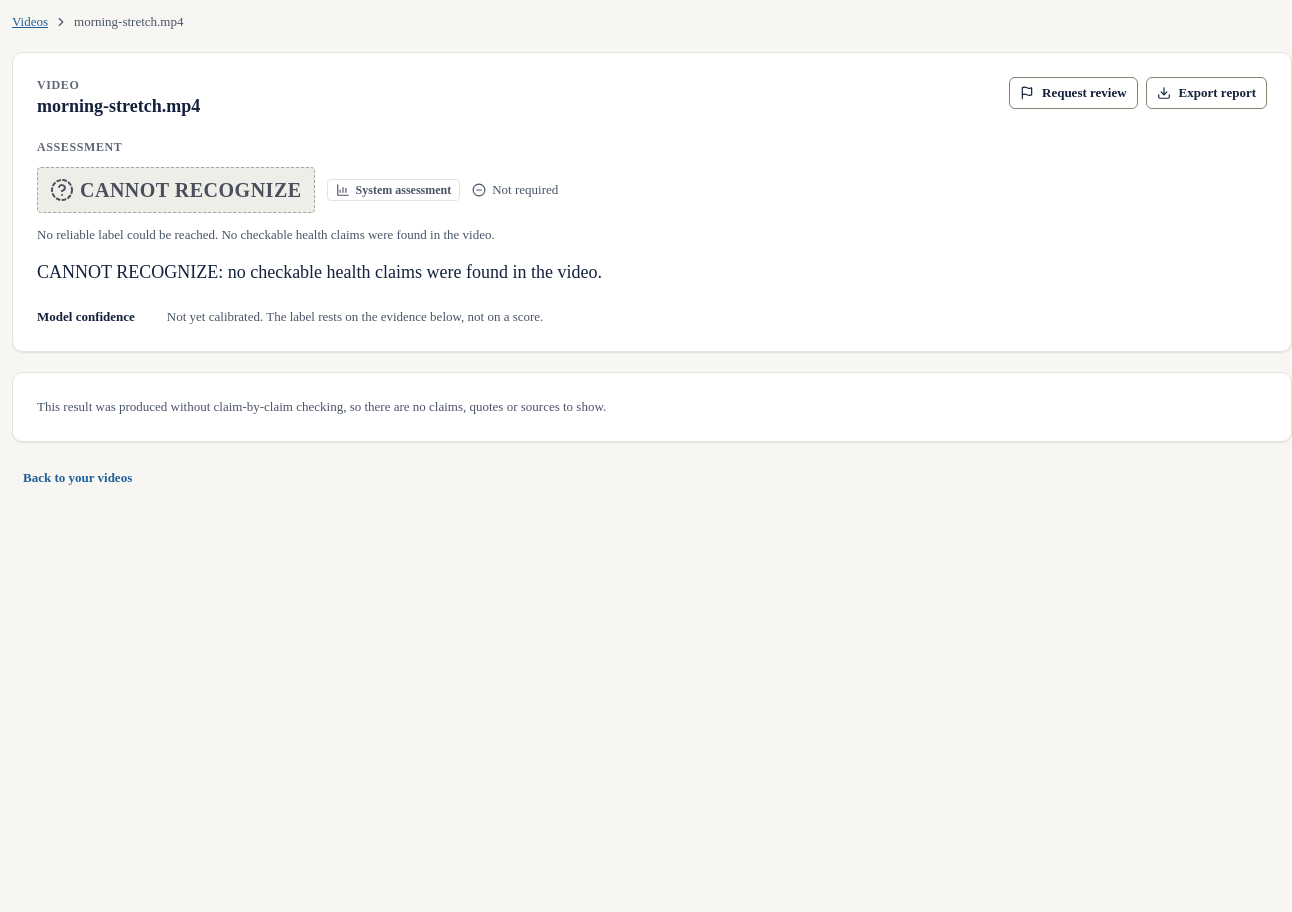
Scenario: Request review on the result page (T32) › keeps the note when sending fails
Click the button "Request review" at (1073, 93), box [1009,77,1138,109]
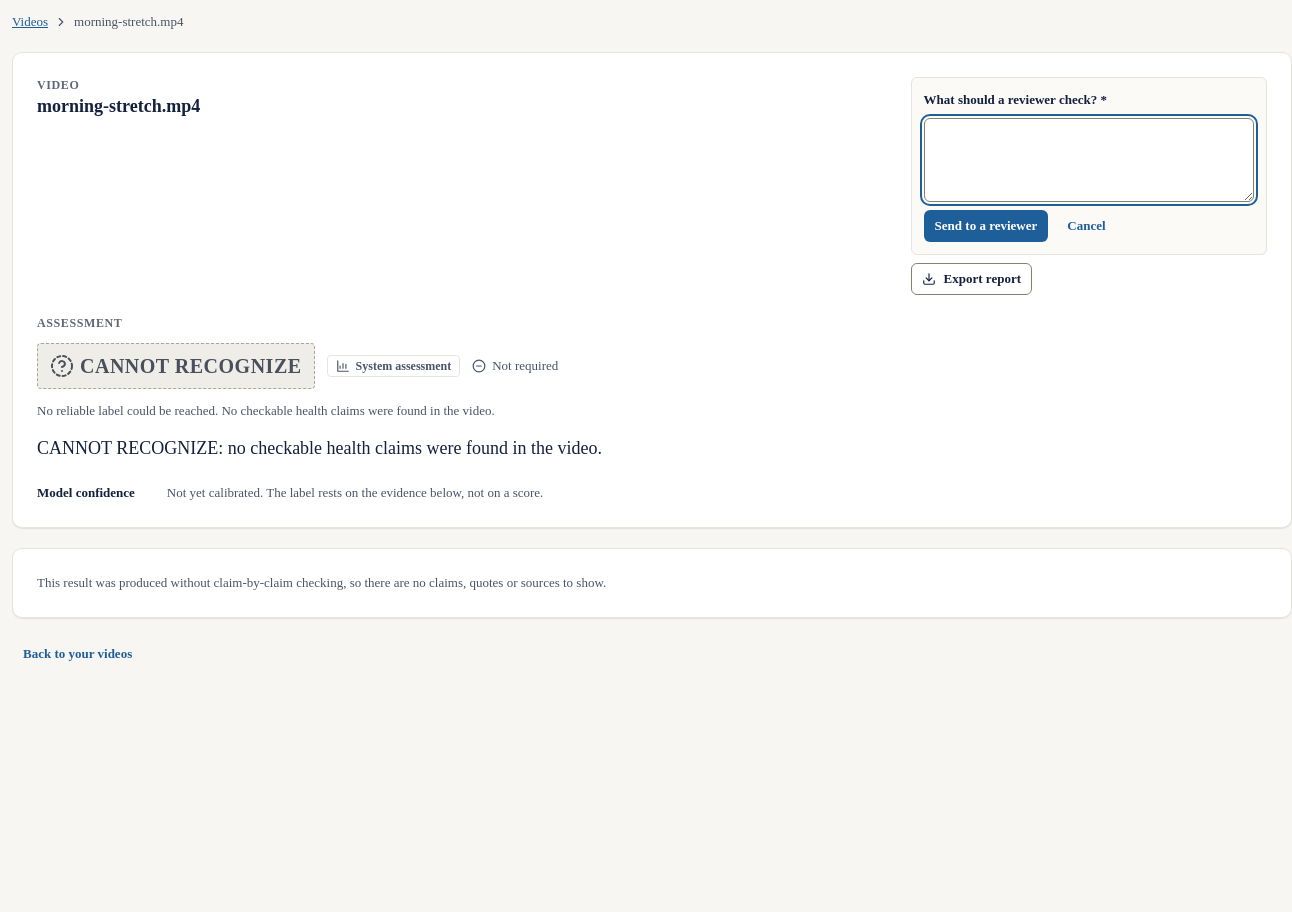
Type "Check it" into the text box labelled "What should a reviewer check? *" at (1089, 160), box [924,118,1254,202]
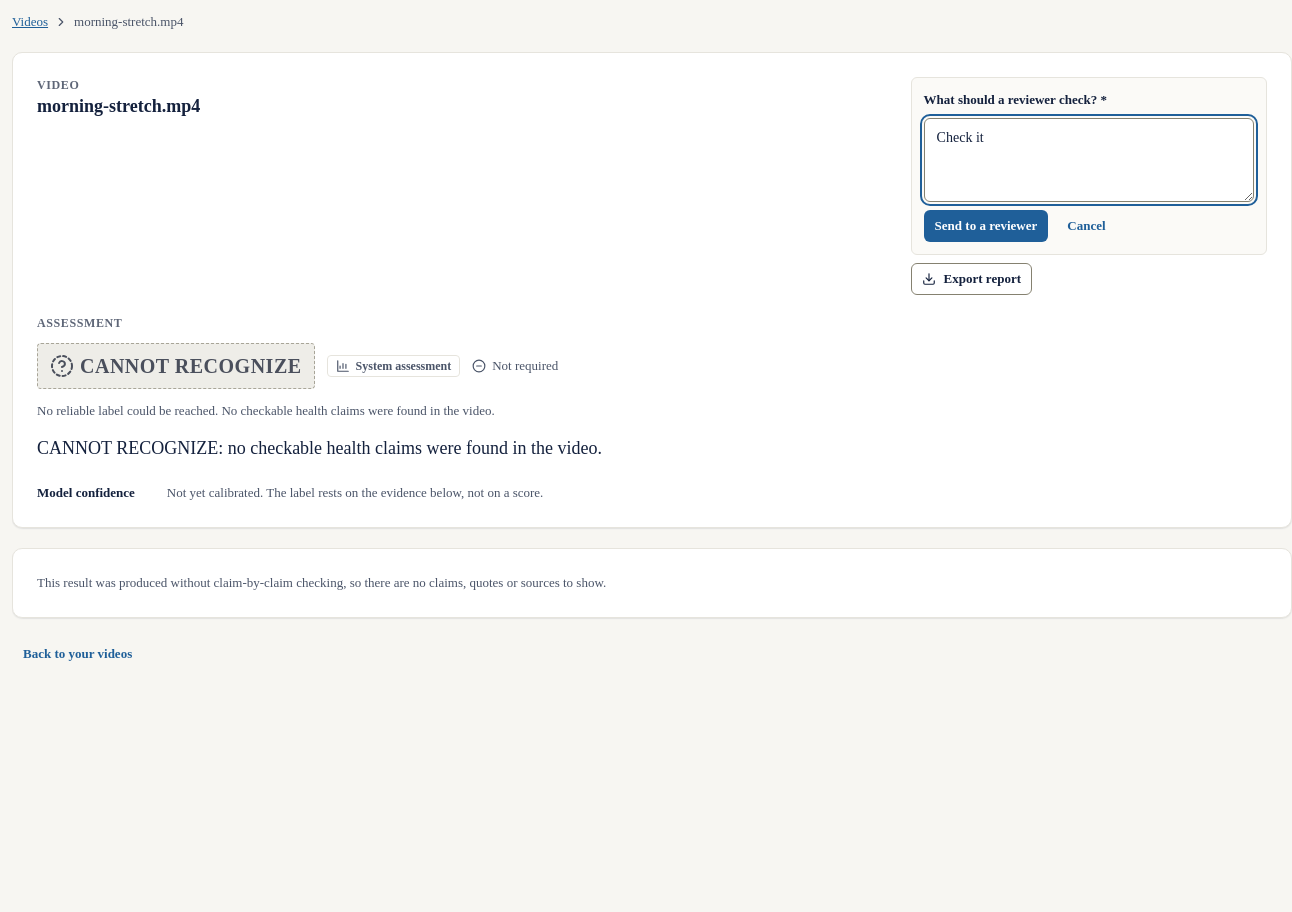
Click the button "Send to a reviewer" at (986, 226), box [924,210,1048,242]
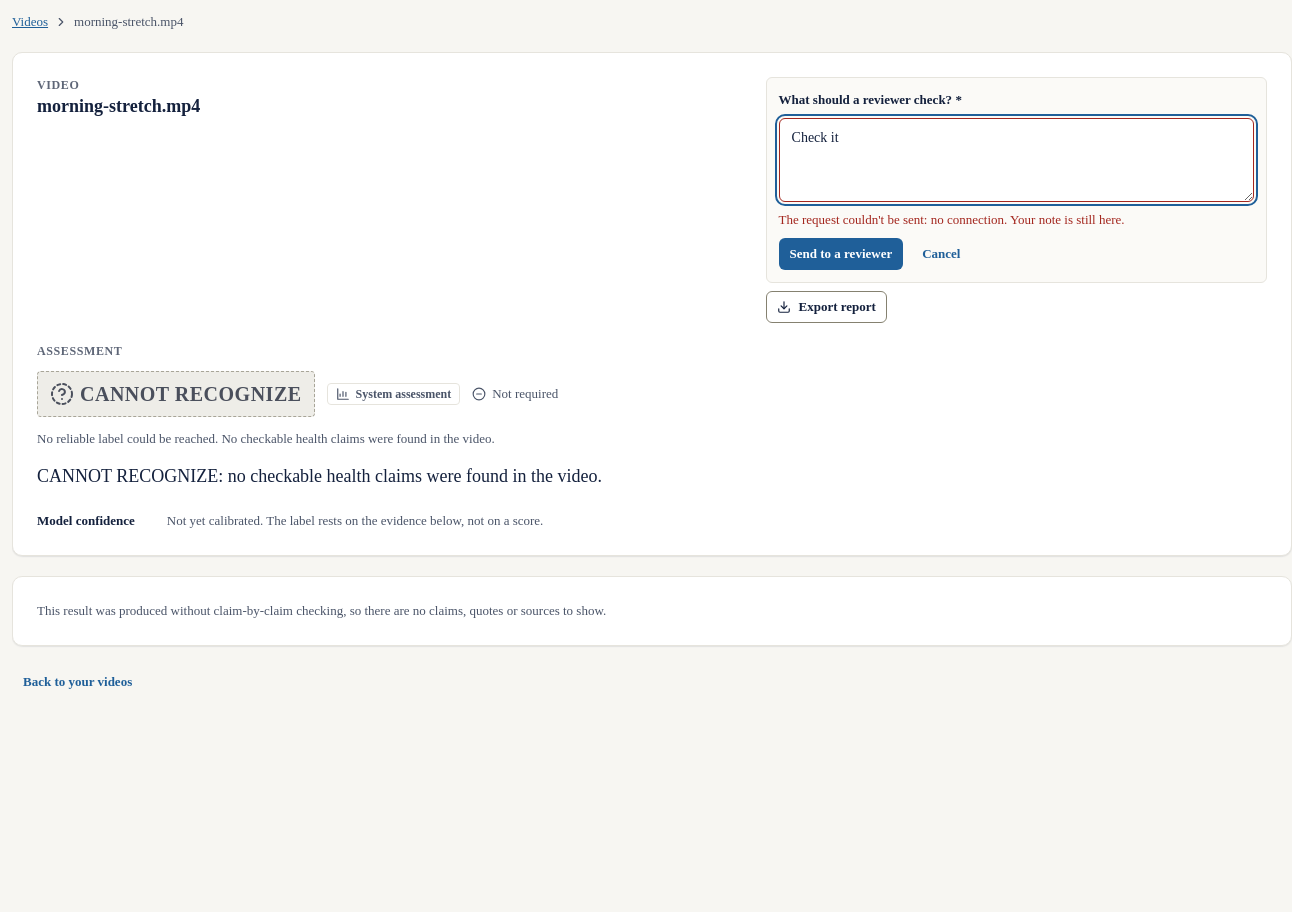
expect the message shows "no connection": met, box [778,212,1125,227]
